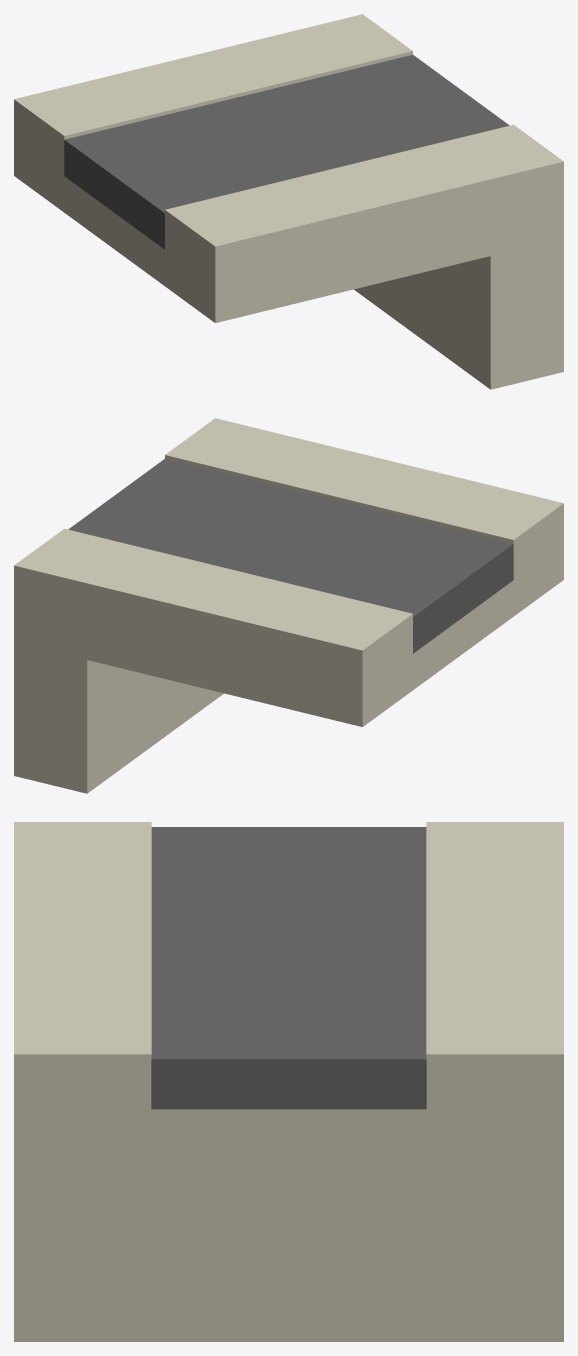
The model's file is roadTile_200.fbx.
3 views of the same model, one above another, from view 1: azimuth 30°, elevation 25°; view 2: azimuth 150°, elevation 25°; view 3: azimuth 270°, elevation 25° (orthographic). The views are drawn at different scales.
Parts seen in each view (by area): view 1: roadTile_200; view 2: roadTile_200; view 3: roadTile_200.
Boxes of the visible parts, <box> form: roadTile_200: <box>14,14,563,389</box>; roadTile_200: <box>14,418,563,793</box>; roadTile_200: <box>14,822,563,1341</box>.
Size of the model in its own units: 118 by 68.11 by 118.
